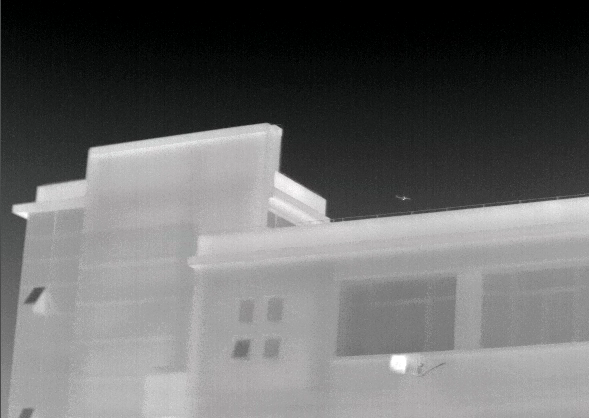dim target: (393, 193, 412, 203)
